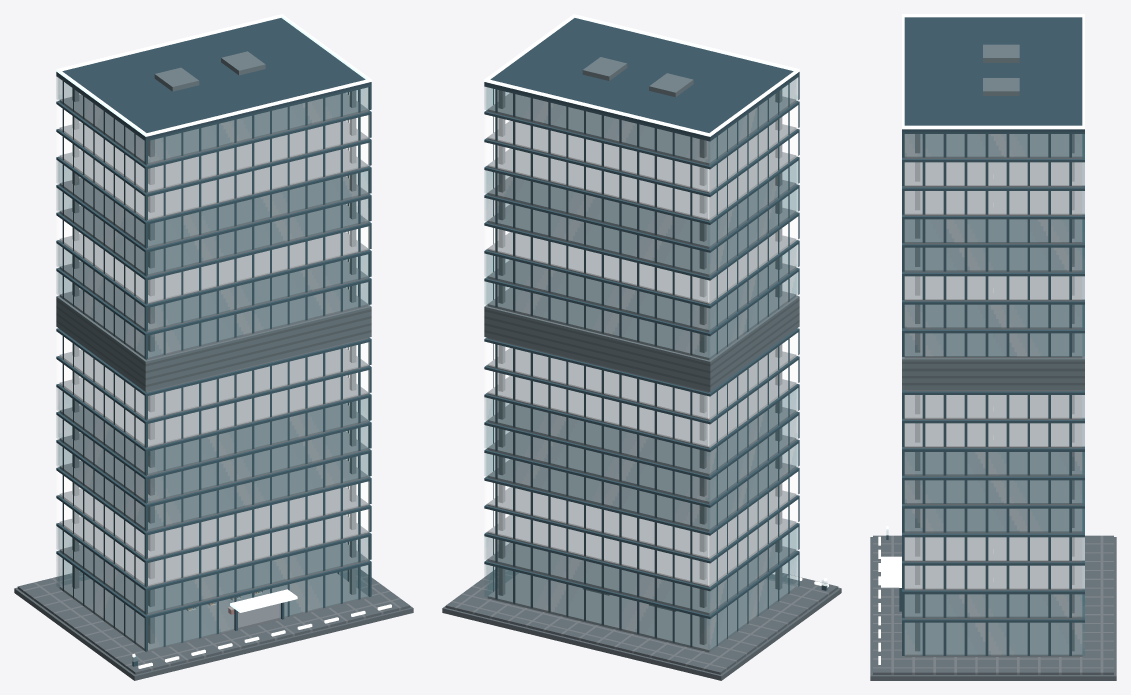
Rendered from tower.glb.
The picture shows the model from 3 angles, left to right: view 1: azimuth 30°, elevation 25°; view 2: azimuth 150°, elevation 25°; view 3: azimuth 270°, elevation 25°; orthographic projection. The views are drawn at different scales.
Parts seen in each view (by area): view 1: Roof, Site, Floor_01_Slab, Floor_10_Facade_front, Floor_01_Facade_front, Floor_11_Slab, Floor_18_Slab, Floor_06_Slab, Floor_12_Slab, Floor_15_Slab, Floor_02_Slab, Floor_14_Slab (+46 smaller); view 2: Roof, Site, Floor_01_Slab, Floor_01_Facade_back, Floor_10_Facade_back, Floor_18_Slab, Floor_05_Slab, Floor_14_Slab, Floor_11_Slab, Floor_07_Slab, Floor_06_Slab, Floor_12_Slab (+45 smaller); view 3: Roof, Site, Floor_01_Facade_right, Floor_10_Facade_right, Floor_01_Slab, Floor_02_Facade_right, Floor_04_Facade_right, Floor_06_Facade_right, Floor_09_Facade_right, Floor_11_Facade_right, Floor_13_Facade_right, Floor_16_Facade_right (+28 smaller).
Boxes of the visible parts, box(x1,y1,x2,y2) form: Roof: box(56, 14, 371, 138); Site: box(14, 567, 413, 680); Floor_01_Slab: box(59, 573, 368, 652); Floor_10_Facade_front: box(147, 306, 369, 391); Floor_01_Facade_front: box(147, 561, 369, 650); Floor_11_Slab: box(59, 287, 368, 360); Floor_18_Slab: box(59, 93, 368, 165); Floor_06_Slab: box(59, 431, 368, 503); Floor_12_Slab: box(59, 259, 368, 332); Floor_15_Slab: box(59, 176, 368, 248); Floor_02_Slab: box(59, 542, 368, 615); Floor_14_Slab: box(59, 204, 368, 276); Roof: box(484, 14, 799, 138); Site: box(442, 568, 841, 680); Floor_01_Slab: box(487, 573, 796, 652); Floor_01_Facade_back: box(486, 561, 708, 650); Floor_10_Facade_back: box(486, 306, 708, 391); Floor_18_Slab: box(487, 93, 796, 165); Floor_05_Slab: box(487, 459, 796, 531); Floor_14_Slab: box(487, 204, 796, 276); Floor_11_Slab: box(487, 287, 796, 360); Floor_07_Slab: box(487, 403, 796, 475); Floor_06_Slab: box(487, 431, 796, 503); Floor_12_Slab: box(487, 259, 796, 332); Roof: box(902, 14, 1084, 131); Site: box(870, 535, 1116, 680); Floor_01_Facade_right: box(902, 619, 1084, 655); Floor_10_Facade_right: box(902, 358, 1084, 389); Floor_01_Slab: box(904, 622, 1082, 656); Floor_02_Facade_right: box(902, 590, 1084, 617); Floor_04_Facade_right: box(902, 533, 1084, 560); Floor_06_Facade_right: box(902, 476, 1084, 503); Floor_09_Facade_right: box(902, 391, 1084, 418); Floor_11_Facade_right: box(902, 329, 1084, 356); Floor_13_Facade_right: box(902, 272, 1084, 299); Floor_16_Facade_right: box(902, 187, 1084, 214).
Bounding box in the file's own units: 50.4 × 91.6 × 37.6.
